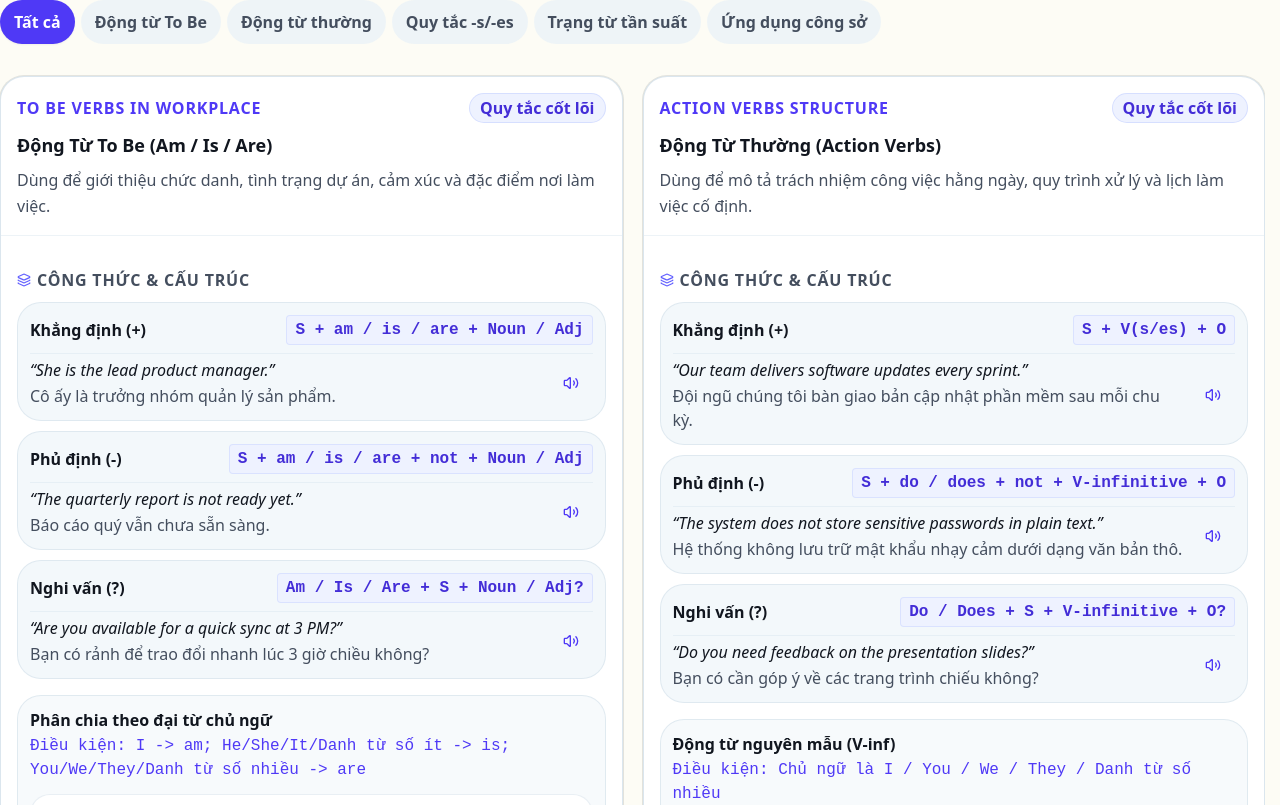
QuickRulesTab component › filters cards when category filter is clicked
Click on "To Be" filter button
Click the button "Động từ To Be": point(151, 22) [81,0,221,44]
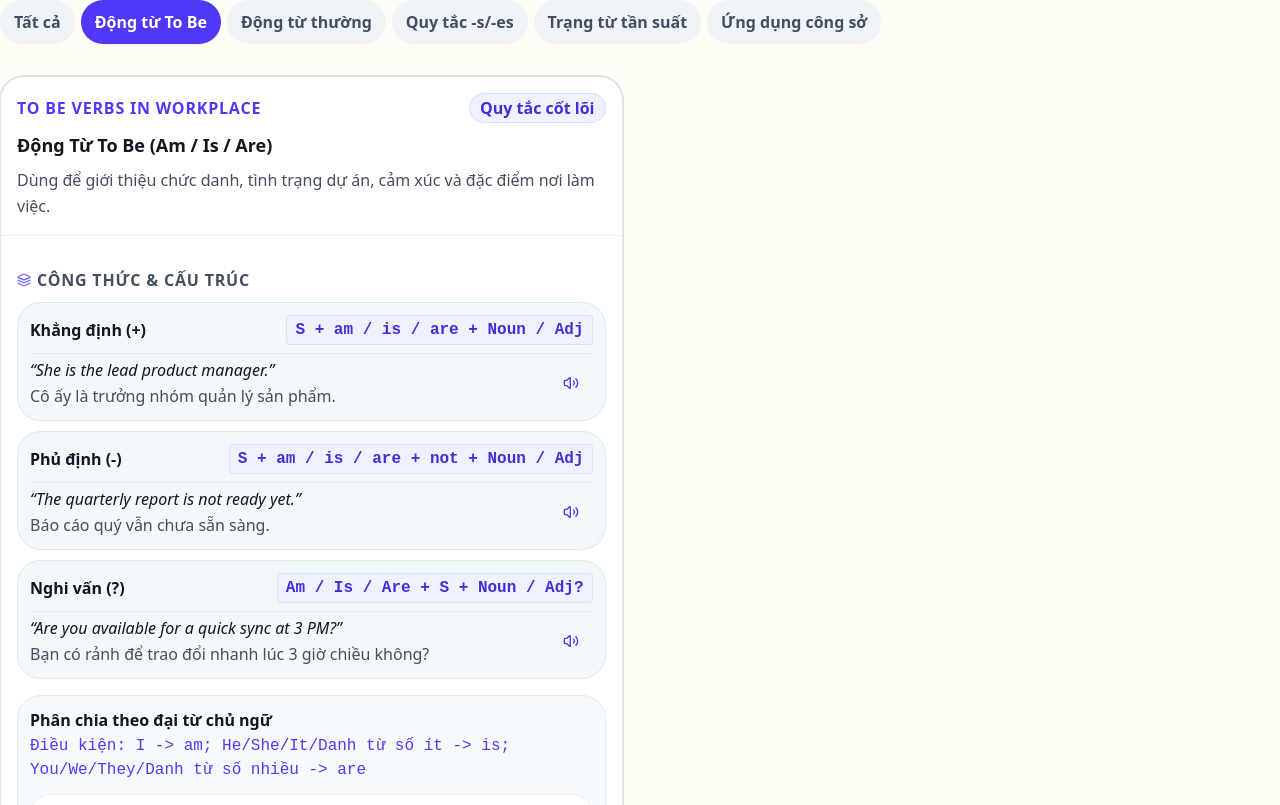
expect the text "Động Từ To Be (Am / Is / Are)" is shown: met, box [17,133,272,157]
expect the text "4 Tình Huống Công Sở Điển Hình" is not shown: met
Click "Tất cả" filter button to restore
Click the button "Tất cả": point(37, 22) [0,0,75,44]
(page scrolled)
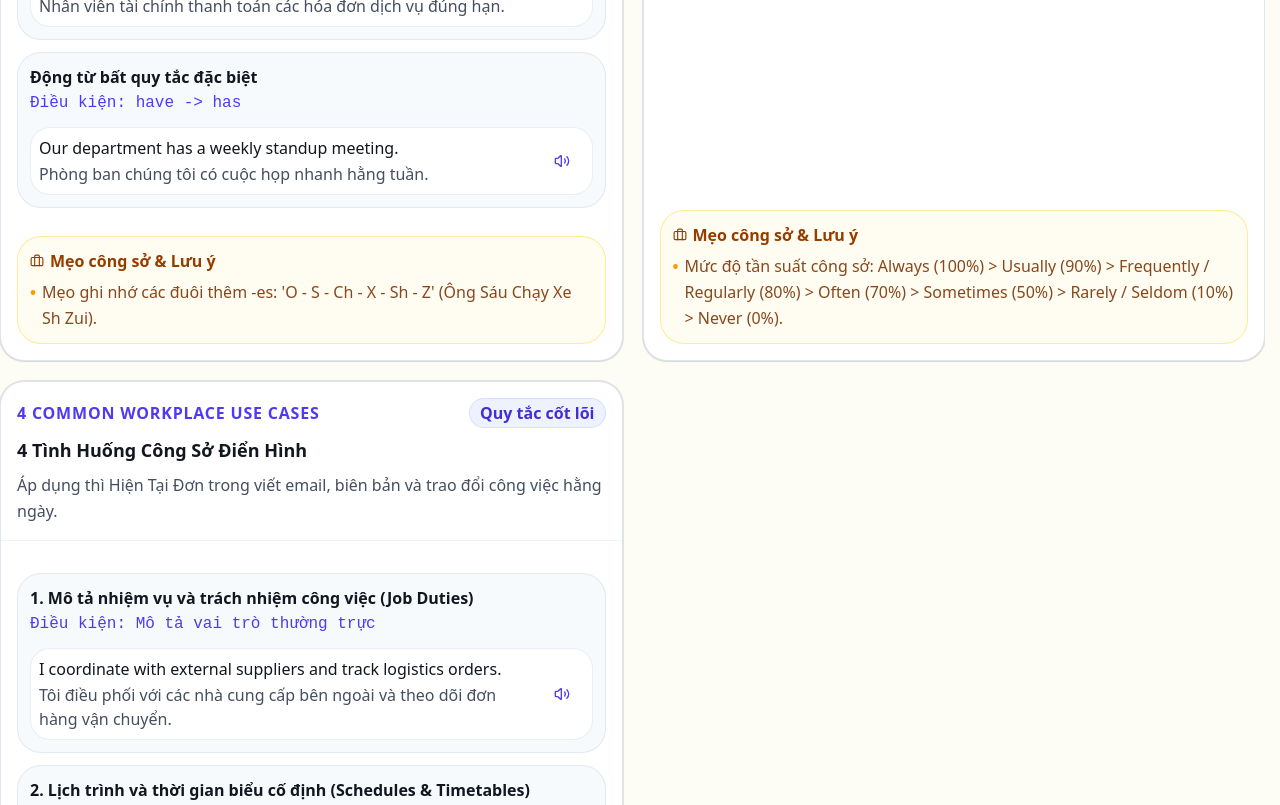
expect the text "4 Tình Huống Công Sở Điển Hình" is shown: met, box [17,438,307,462]
